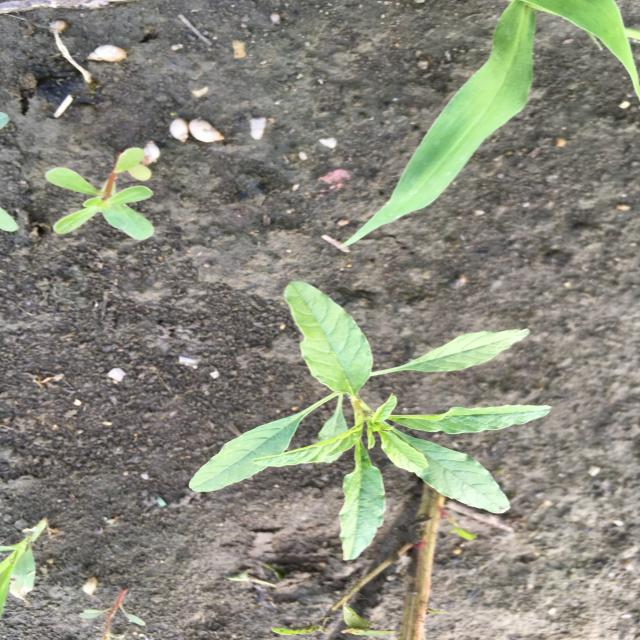Purslane: (44, 146, 157, 241)
Waterhemp: (185, 278, 556, 562)
